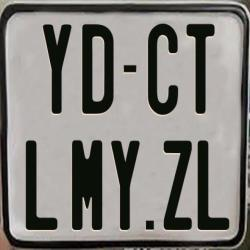C: (148, 23, 178, 118)
D: (82, 23, 116, 114)
L: (198, 139, 232, 229), (24, 140, 56, 230)
M: (70, 140, 102, 233)
T: (186, 24, 216, 115)
Y: (42, 25, 74, 114), (110, 140, 139, 231)
Z: (164, 141, 193, 233)
